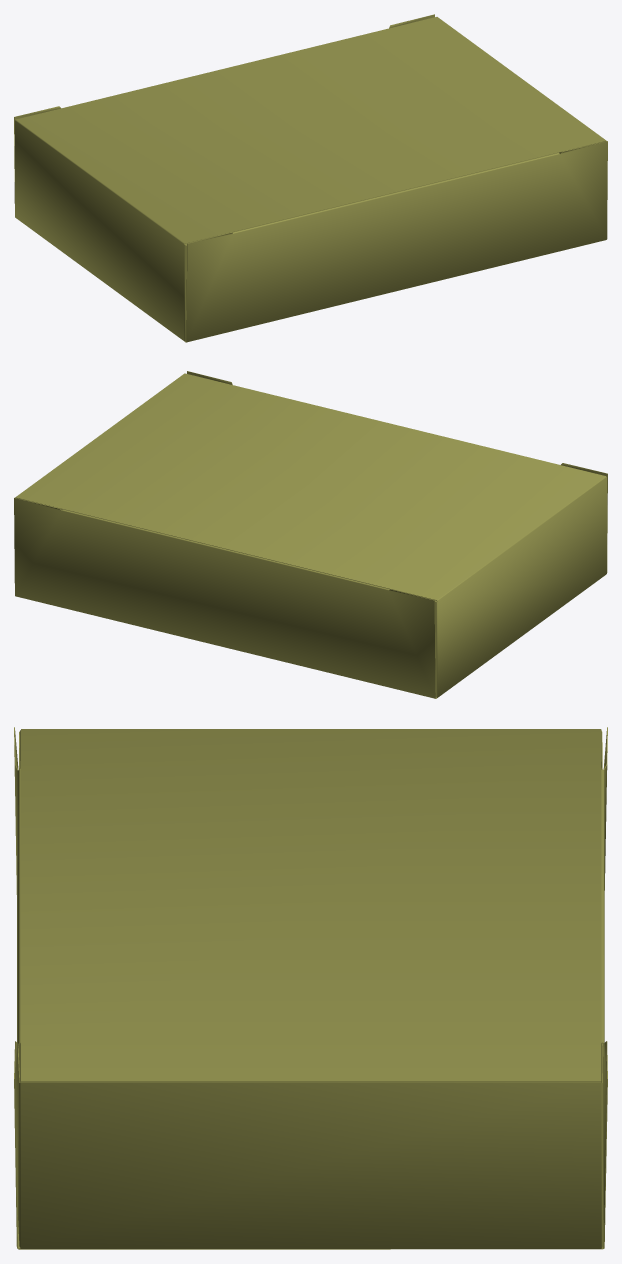
Rendered from BoxOn5_close_12ga_APslug.FBX.
3 views of the same model, one above another, from view 1: azimuth 30°, elevation 25°; view 2: azimuth 150°, elevation 25°; view 3: azimuth 270°, elevation 25° (orthographic). The views are drawn at different scales.
Parts seen in each view (by area): view 1: BoxOn5_12ga_APslug; view 2: BoxOn5_12ga_APslug; view 3: BoxOn5_12ga_APslug.
Part boxes in pixels (left/top/right/bottom): BoxOn5_12ga_APslug: left=14, top=14, right=607, bottom=342; BoxOn5_12ga_APslug: left=14, top=371, right=607, bottom=698; BoxOn5_12ga_APslug: left=14, top=727, right=607, bottom=1249.
Size of the model in its own units: 9.57 by 6.8 by 2.16.
